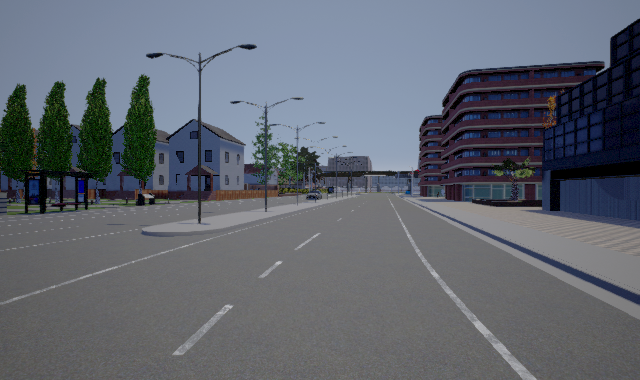vehicle: (305, 189, 322, 200)
